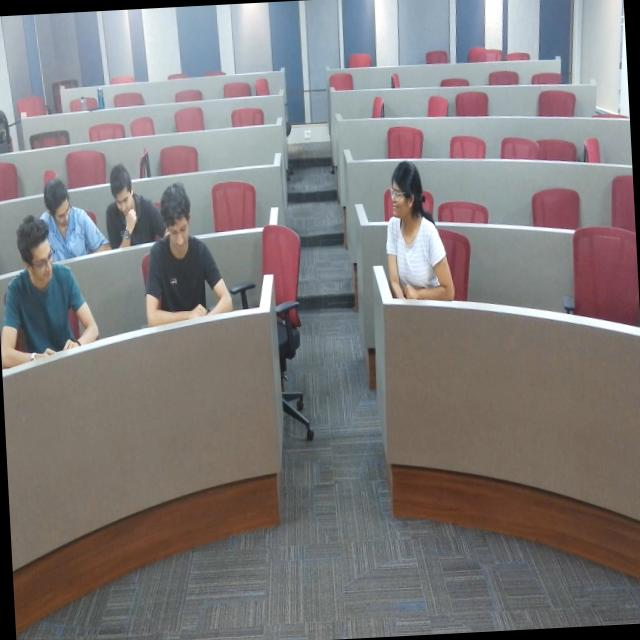cheating: (378, 164, 462, 304), (36, 168, 106, 270), (100, 160, 152, 250)
non-cheating: (0, 219, 90, 393), (138, 188, 225, 338)
